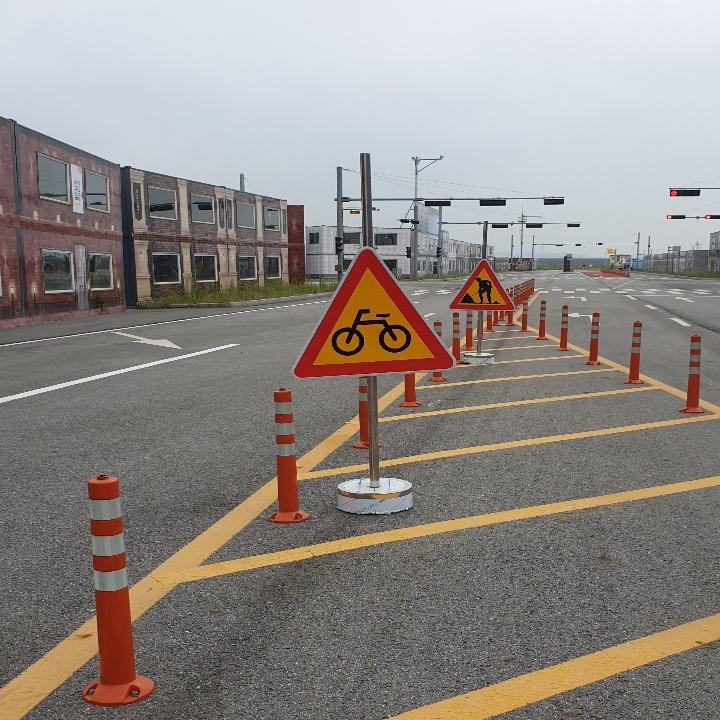bicycle: (295, 246, 452, 375)
const: (459, 272, 503, 303)
